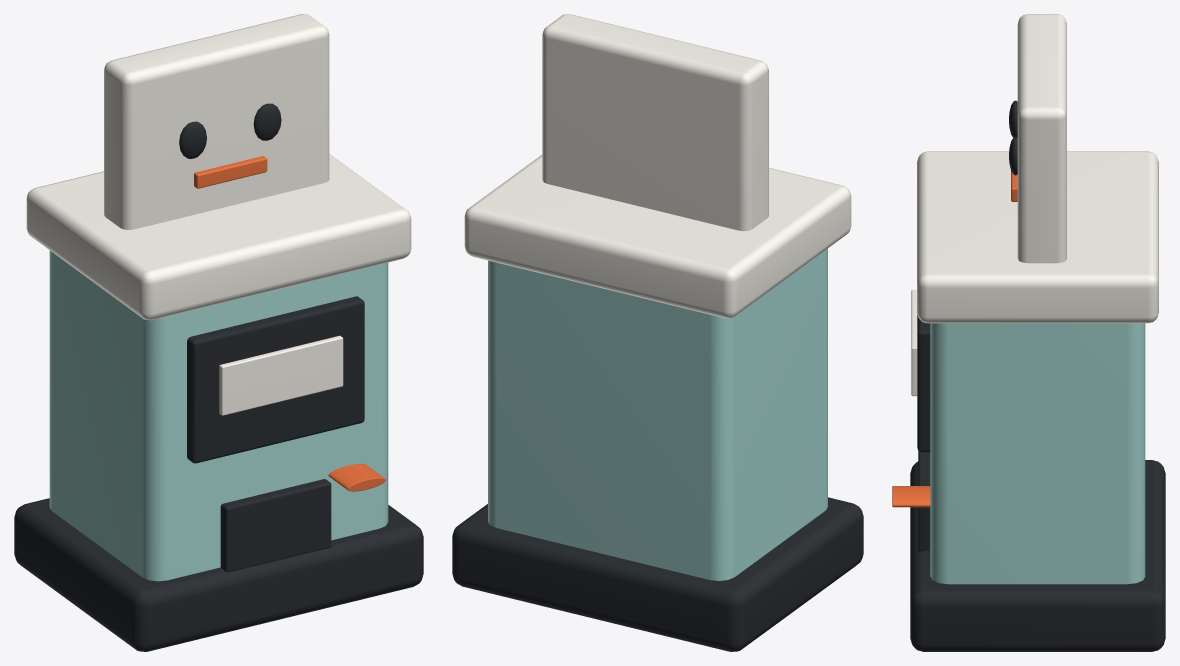
Rendered from station.glb.
The picture shows the model from 3 angles, left to right: view 1: azimuth 30°, elevation 25°; view 2: azimuth 150°, elevation 25°; view 3: azimuth 270°, elevation 25°; orthographic projection.
Parts seen in each view (by area): view 1: station_lid.001, station_shell.001, station_base.001, station_button.001; view 2: station_shell.001, station_lid.001, station_base.001; view 3: station_shell.001, station_lid.001, station_base.001, station_button.001.
Boxes of the visible parts, bbox=[...] form: station_lid.001: bbox=[26, 14, 411, 415]; station_shell.001: bbox=[49, 250, 388, 581]; station_base.001: bbox=[14, 103, 423, 651]; station_button.001: bbox=[194, 156, 385, 491]; station_shell.001: bbox=[488, 248, 827, 580]; station_lid.001: bbox=[464, 14, 851, 318]; station_base.001: bbox=[452, 497, 863, 651]; station_shell.001: bbox=[930, 323, 1145, 584]; station_lid.001: bbox=[911, 14, 1158, 396]; station_base.001: bbox=[910, 100, 1165, 651]; station_button.001: bbox=[892, 171, 1017, 507].
Bounding box in the file's own units: 1.48 × 2.59 × 1.22.
